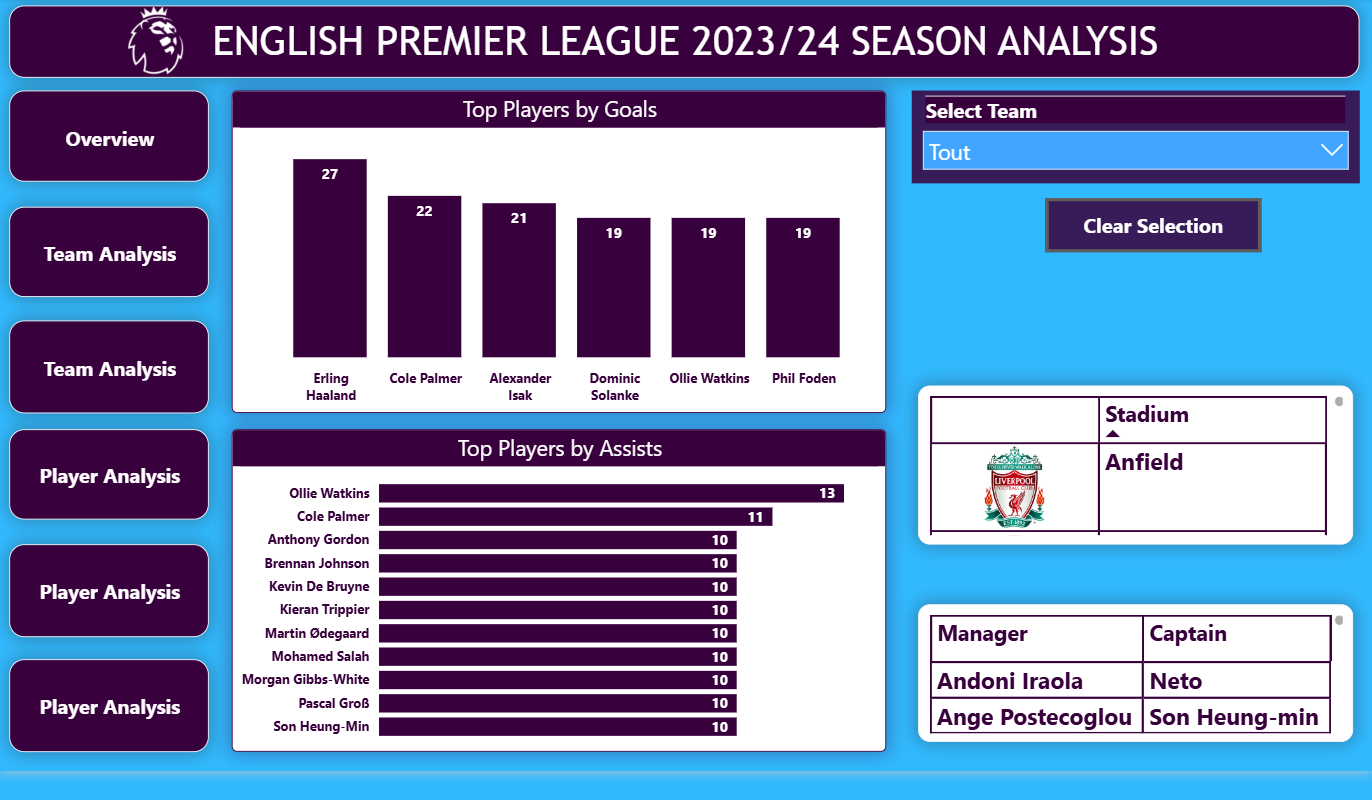

This screenshot's page, from the dashboard's own definition file:
{"tool":"powerbi","page":{"name":"Page 4","canvas":[1280,720],"ordinal":3},"visuals":[{"type":"actionButton","box":[10.1,86.4,185.8,85],"z":0},{"type":"textbox","box":[10.1,6.7,1256.4,67.5],"z":1000},{"type":"actionButton","box":[10.1,193.9,185.5,84.3],"z":2000},{"type":"actionButton","box":[10.1,300.2,185.5,86],"z":3000},{"type":"actionButton","box":[10.1,507.6,185.5,86],"z":4000},{"type":"actionButton","box":[10.1,401.4,185.5,84.3],"z":5000},{"type":"image","box":[108,2.9,76.3,74.9],"z":6000},{"type":"slicer","fields":{"Values":["Teams1.Club"]},"box":[850,86,416.5,86],"z":7000},{"type":"actionButton","box":[974.8,185.5,200.7,50.6],"z":8000},{"type":"columnChart","title":"Top Players by Goals","fields":{"Category":["Shots.Player"],"Y":["Sum(Shots.Goals)"]},"box":[217.5,86,608.8,300.2],"z":9000},{"type":"barChart","title":"Top Players by Assists ","fields":{"Category":["Assists4.Player"],"Y":["Sum(Assists4.Stat)"]},"box":[217.5,401.4,608.8,300.2],"z":10000},{"type":"tableEx","fields":{"Values":["Url2.url","Manager.Stadium"]},"box":[855.8,360.5,404.7,172.1],"z":11000},{"type":"tableEx","fields":{"Values":["Manager.Manager","Manager.Captain"]},"box":[855.8,564,404.7,128.2],"z":12000},{"type":"actionButton","box":[10.1,615.5,185.5,86],"z":13000}]}

Visuals, with their boxes on the page's 1280x720 design canvas (x1, y1, x2, y2). These are canvas units, not pixel positions in the 1372x800 screenshot, which may show the page scaled, cropped or inside an application window:
actionButton: crop(10, 86, 196, 171)
textbox: crop(10, 7, 1266, 74)
actionButton: crop(10, 194, 196, 278)
actionButton: crop(10, 300, 196, 386)
actionButton: crop(10, 508, 196, 594)
actionButton: crop(10, 401, 196, 486)
image: crop(108, 3, 184, 78)
slicer - Teams1.Club: crop(850, 86, 1266, 172)
actionButton: crop(975, 186, 1176, 236)
"Top Players by Goals" columnChart: crop(218, 86, 826, 386)
"Top Players by Assists " barChart: crop(218, 401, 826, 702)
tableEx - Url2.url x Manager.Stadium: crop(856, 360, 1260, 533)
tableEx - Manager.Manager x Manager.Captain: crop(856, 564, 1260, 692)
actionButton: crop(10, 616, 196, 702)
